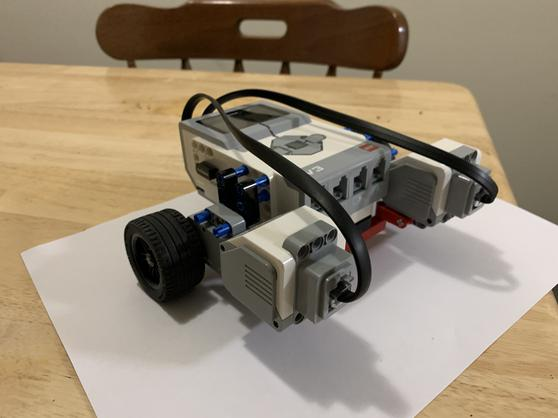robot: (124, 83, 502, 333)
